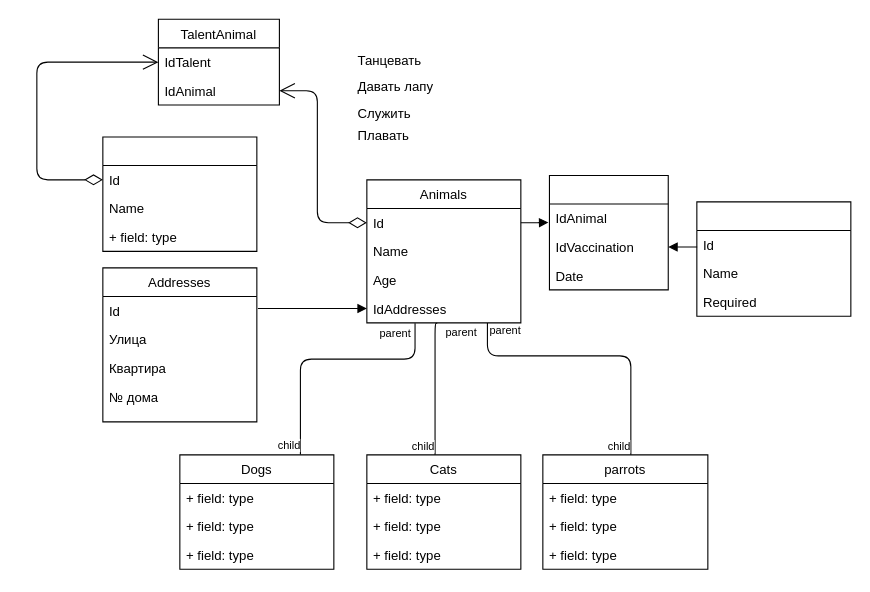
Image size: 870x592. Some labels were removed from this diagram. Each missing label, with the box of its shape:
Talents: (102, 136, 257, 251)
VaccinationAnimal: (548, 174, 668, 290)
Vaccinations: (696, 201, 851, 316)
